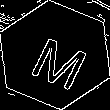M_NE: (21, 23, 89, 87)
